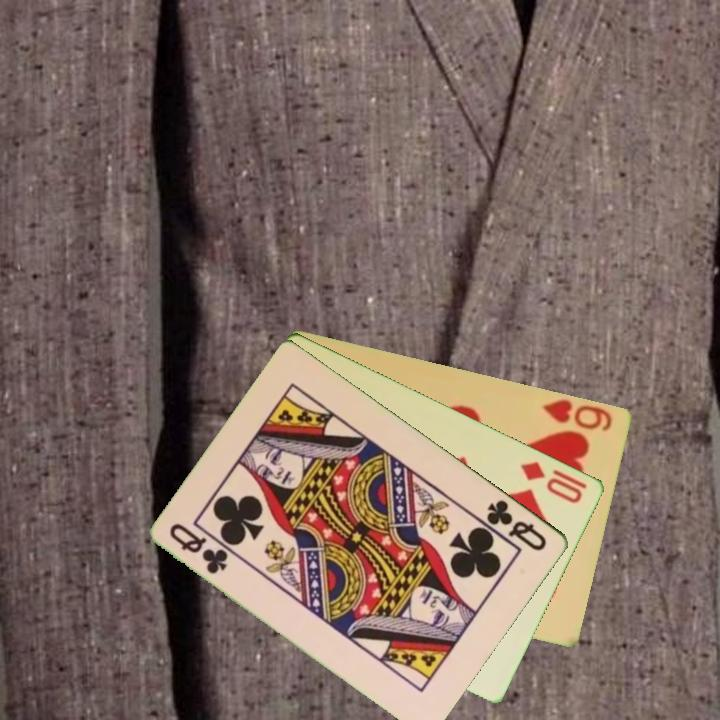10d: (517, 457, 590, 506)
6h: (539, 395, 616, 434)
Qc: (483, 495, 551, 554), (166, 519, 232, 577)
